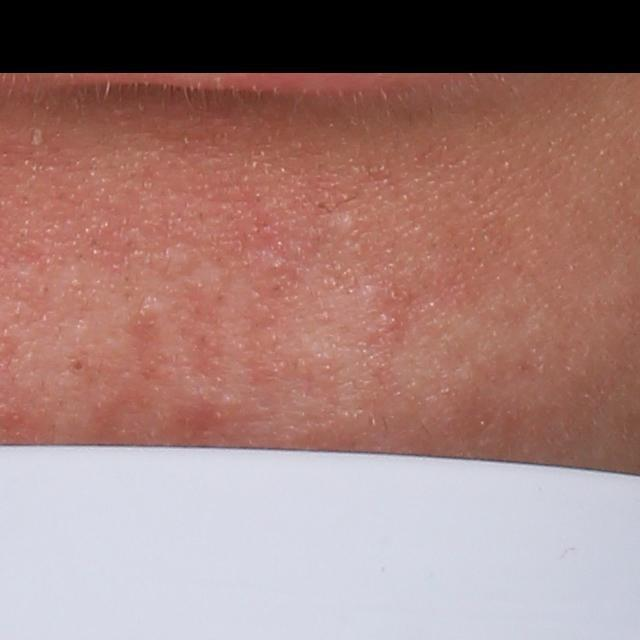comedo: (69, 357, 86, 373)
